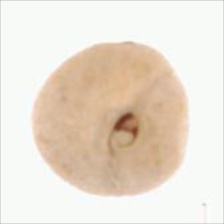L3: (108, 109, 140, 155)
L4: (31, 42, 189, 196)
